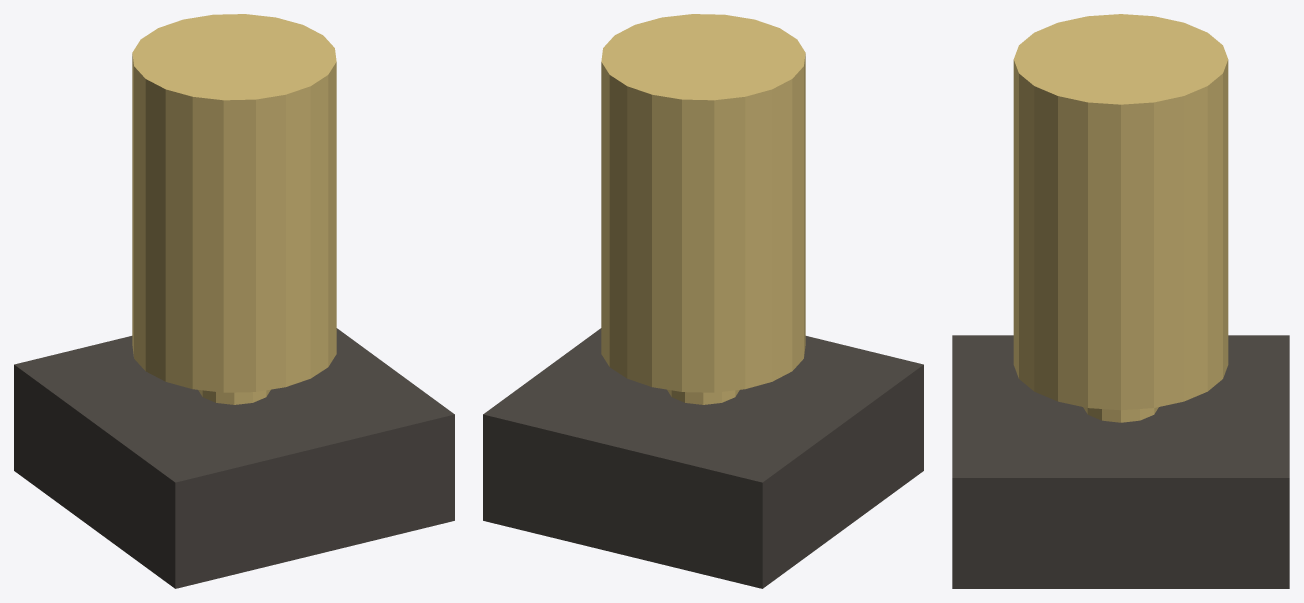
File: trophy.glb
3 renders of one model, left to right at view 1: azimuth 30°, elevation 25°; view 2: azimuth 150°, elevation 25°; view 3: azimuth 270°, elevation 25°, orthographic. The views are drawn at different scales.
Visible parts, largest first — view 1: Trophy; view 2: Trophy; view 3: Trophy.
Part boxes in pixels (bbox=[...]): Trophy: bbox=[14, 14, 454, 588]; Trophy: bbox=[483, 14, 923, 588]; Trophy: bbox=[952, 14, 1289, 588].
Bounding box in the file's own units: 0.22 × 0.33 × 0.22.
